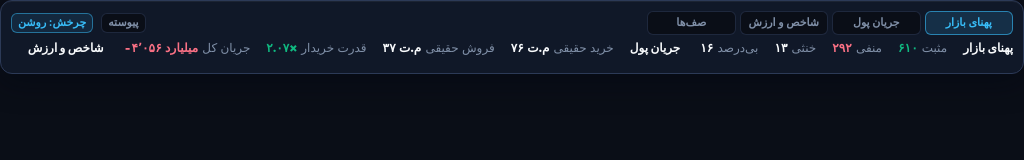
Test case: نوارِ خلاصۀ چرخشی › کلیدِ حالت رویِ خودِ نوار می‌ماند (کنترلِ جاافتاده = حذف‌شدۀ دیدنی)
The image size is (1024, 160).
Click the button with test id "ticker-mode-toggle". click: (123, 23)
box: [101,13,146,33]
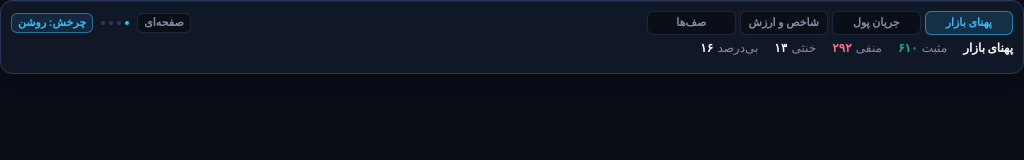
Expected: the element with test id "ticker-body" is shown, [700,40,1013,55]
